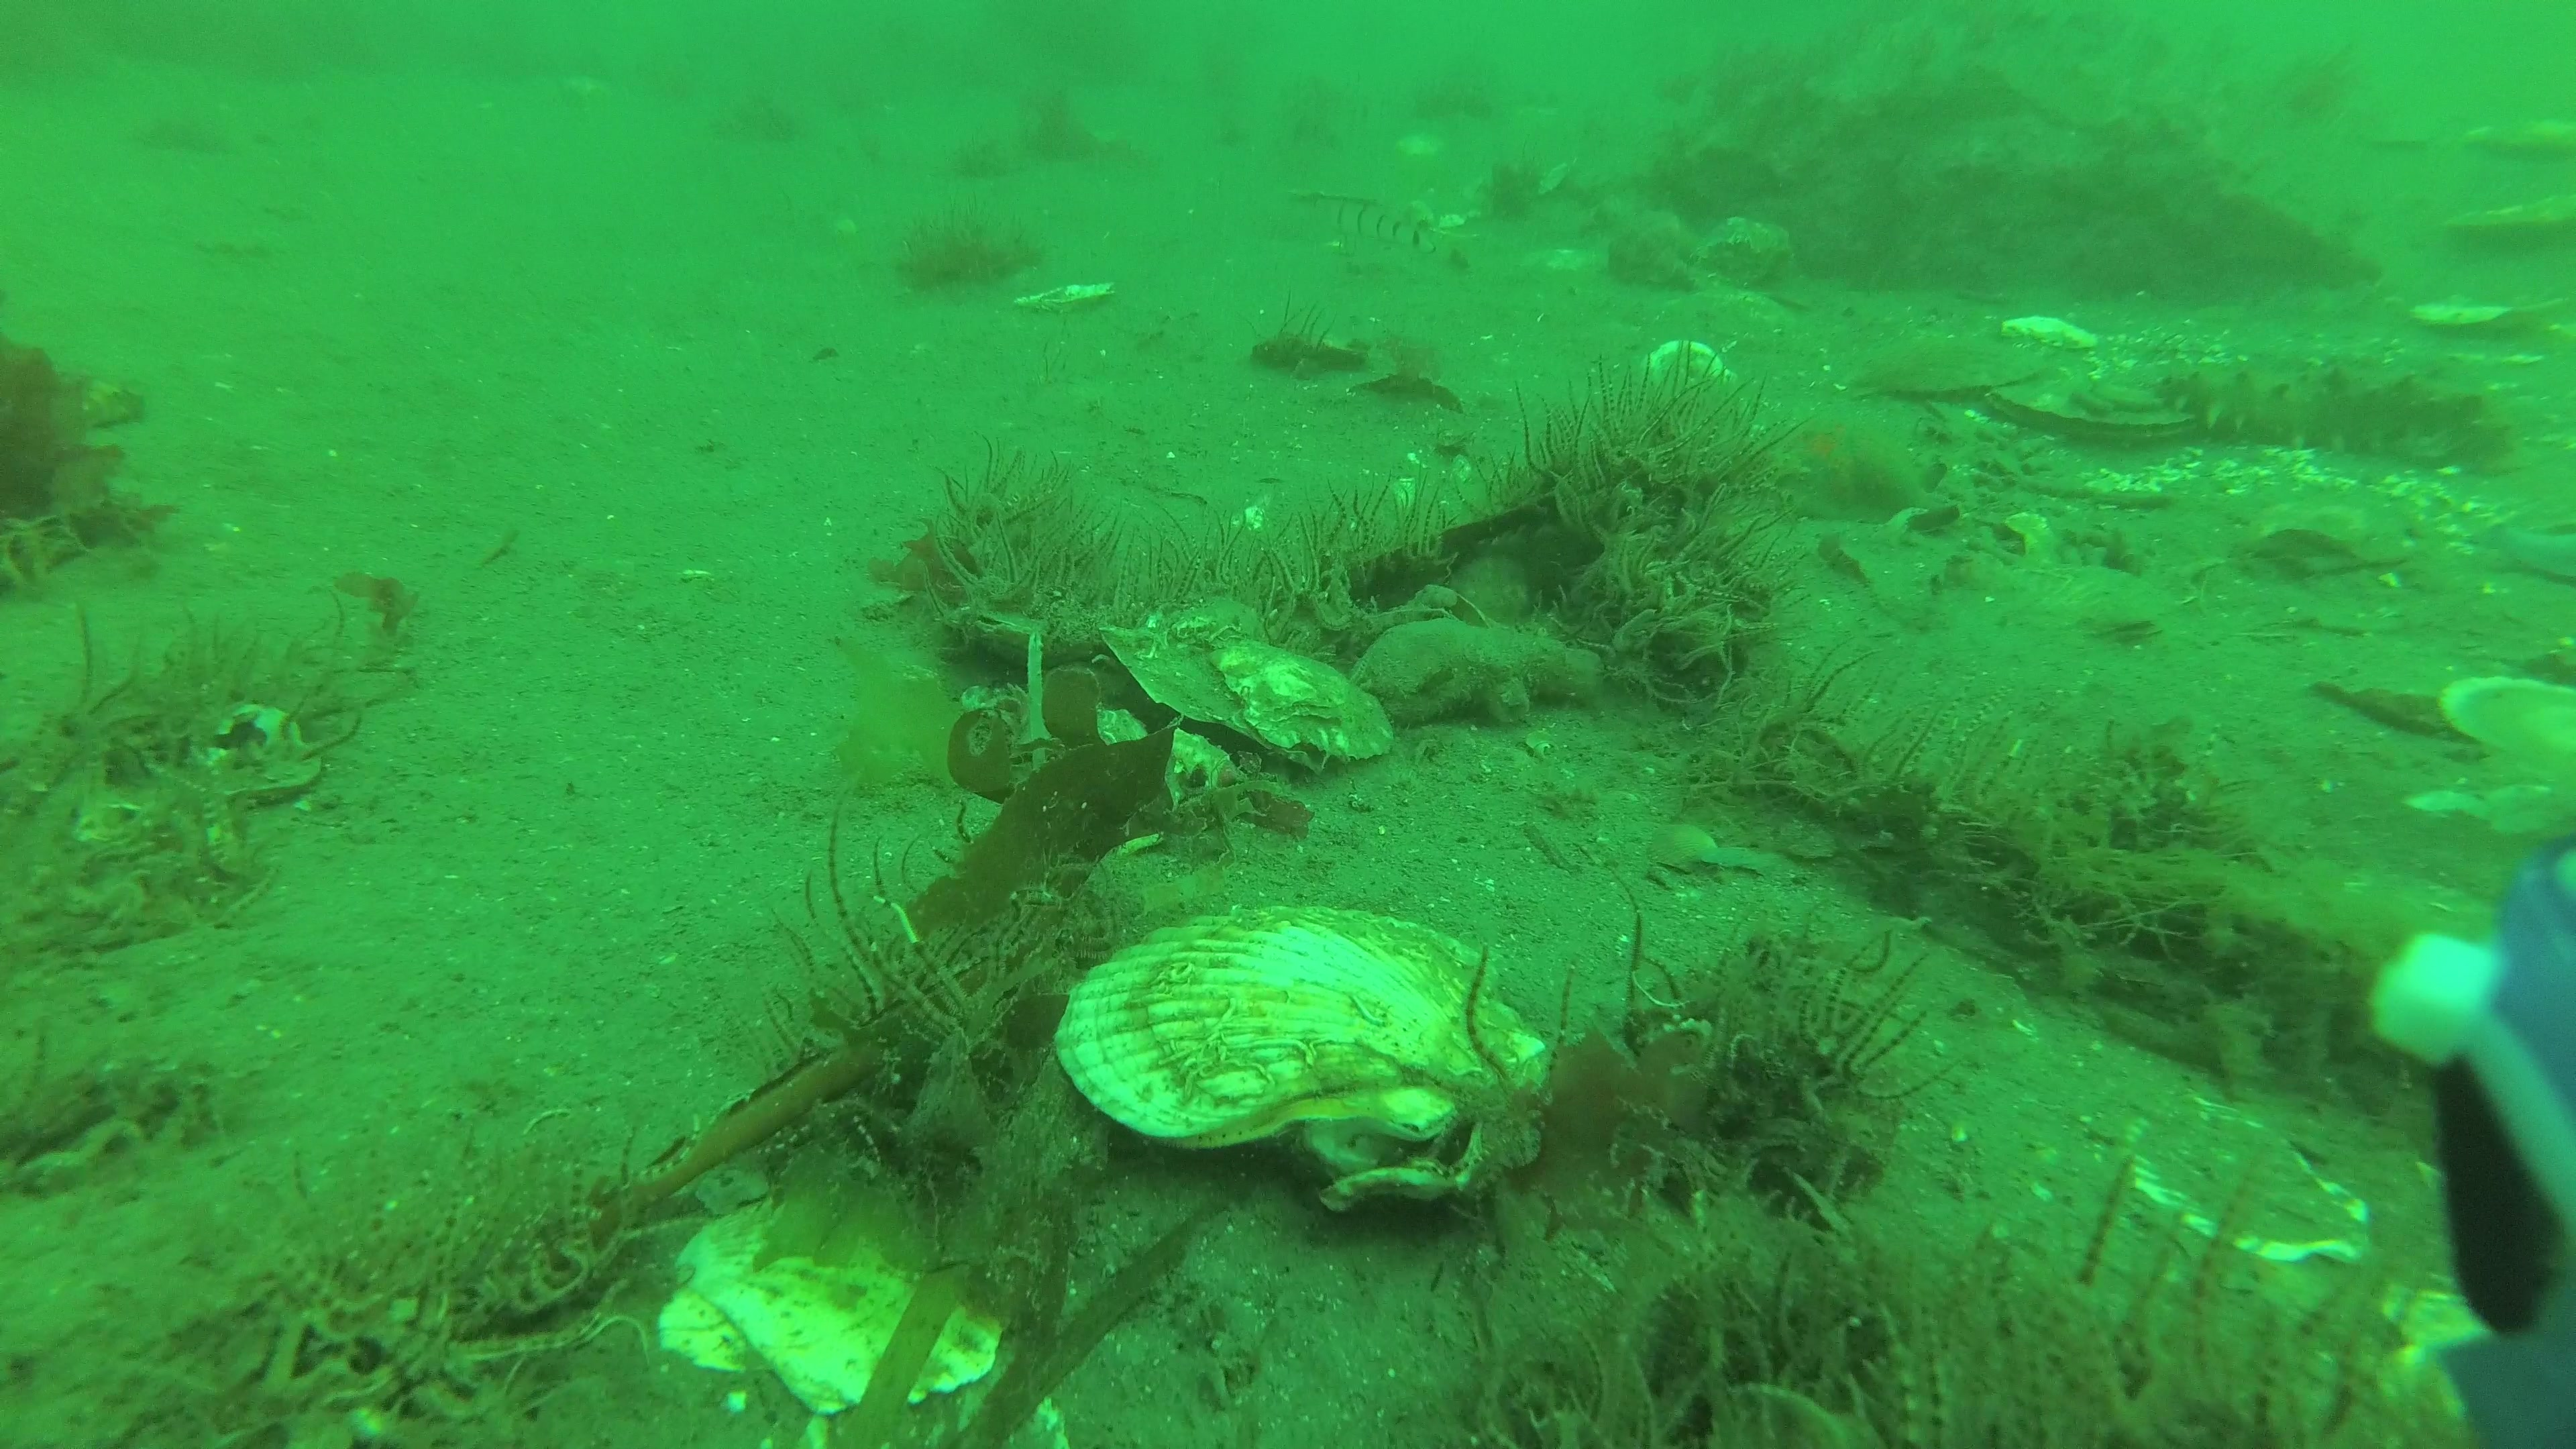holothurian: (2151, 352, 2516, 472)
scallop: (1051, 893, 1552, 1187), (667, 1185, 1021, 1424), (2112, 1086, 2376, 1277), (1198, 623, 1401, 766), (1982, 357, 2199, 446), (1833, 334, 2059, 403)
